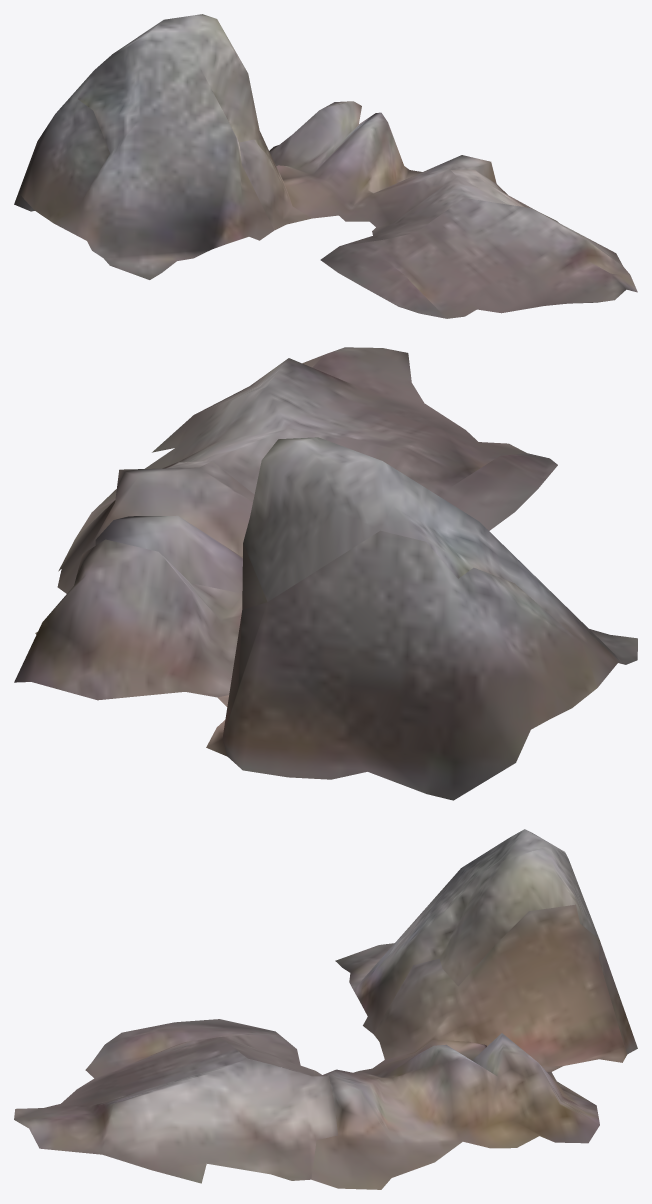
Rendered from river-rock-a.lod1.glb.
3 renders of one model, top to bottom at view 1: azimuth 30°, elevation 25°; view 2: azimuth 150°, elevation 25°; view 3: azimuth 270°, elevation 25°, orthographic. The views are drawn at different scales.
Parts seen in each view (by area): view 1: Object_4; view 2: Object_4; view 3: Object_4.
Boxes of the visible parts, bbox=[...] form: Object_4: bbox=[14, 14, 637, 318]; Object_4: bbox=[14, 347, 637, 800]; Object_4: bbox=[14, 829, 637, 1189].
Bounding box in the file's own units: 2.55 × 1.12 × 2.98.
Materials: 1 (1 with a texture image).
